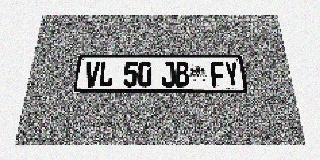0: (138, 61, 152, 87)
5: (123, 61, 138, 87)
B: (175, 62, 190, 87)
F: (210, 62, 226, 87)
J: (161, 62, 175, 87)
L: (98, 61, 114, 87)
V: (84, 61, 100, 87)
Y: (224, 62, 240, 87)
